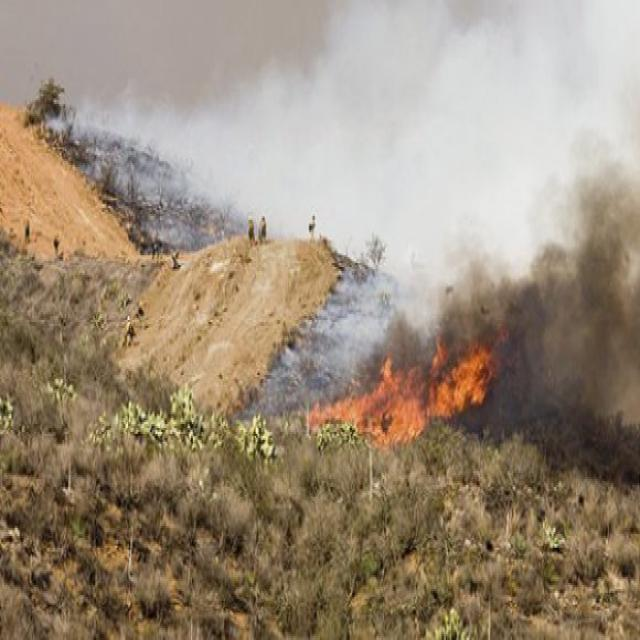Fire: (435, 353, 495, 422), (348, 388, 428, 438)
Smoke: (532, 318, 620, 421)
